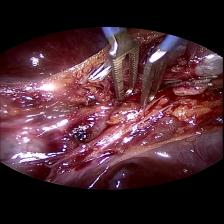Bipolar: (99, 20, 181, 108)
